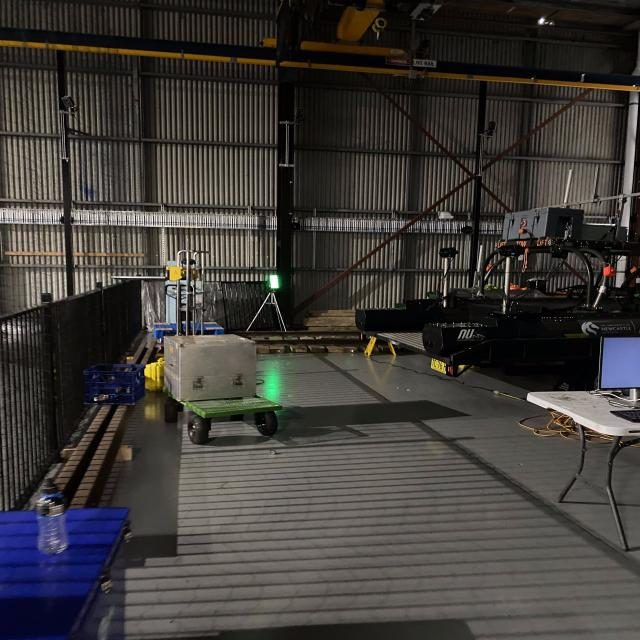matrix: (266, 274, 282, 288)
